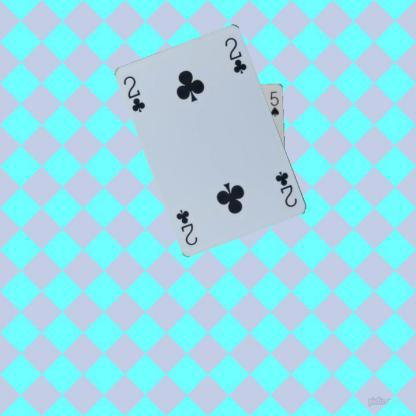2c: (272, 168, 298, 209), (121, 73, 147, 114)
